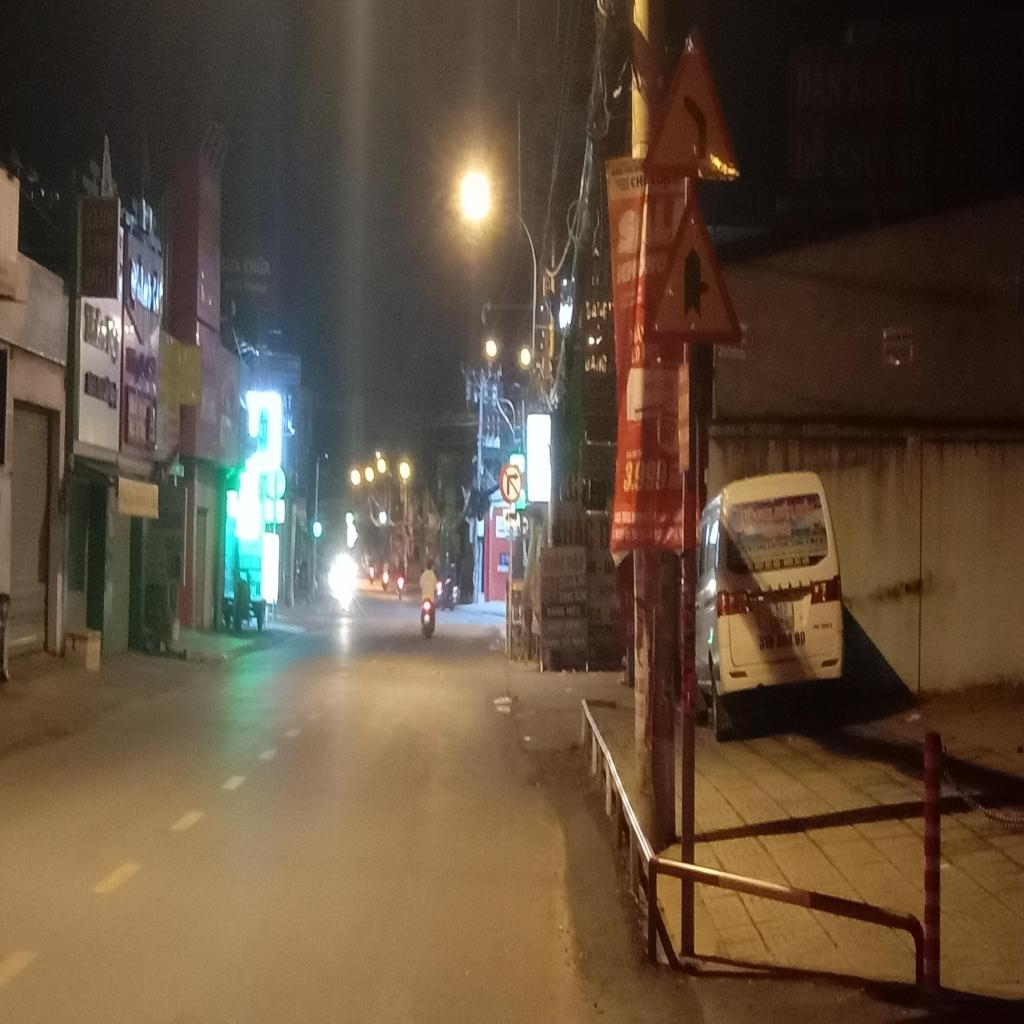cam_re_phai: (498, 463, 523, 501)
cho_ngoat_nguy_hiem_ben_trai: (640, 17, 742, 181)
giao_nhau_voi_duong_khong_uu_tien: (641, 184, 747, 345)
khac: (502, 508, 520, 526)
